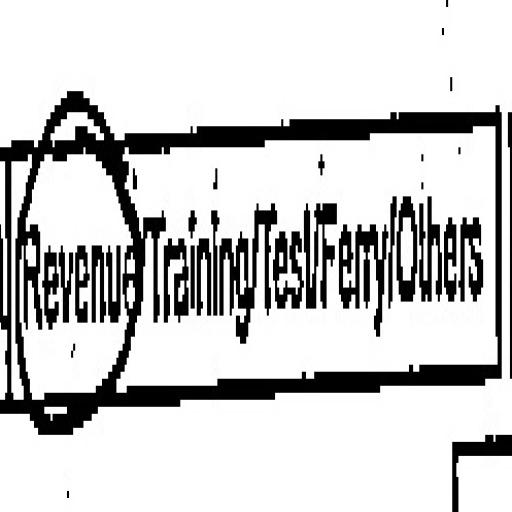check: (0, 32, 143, 477)
